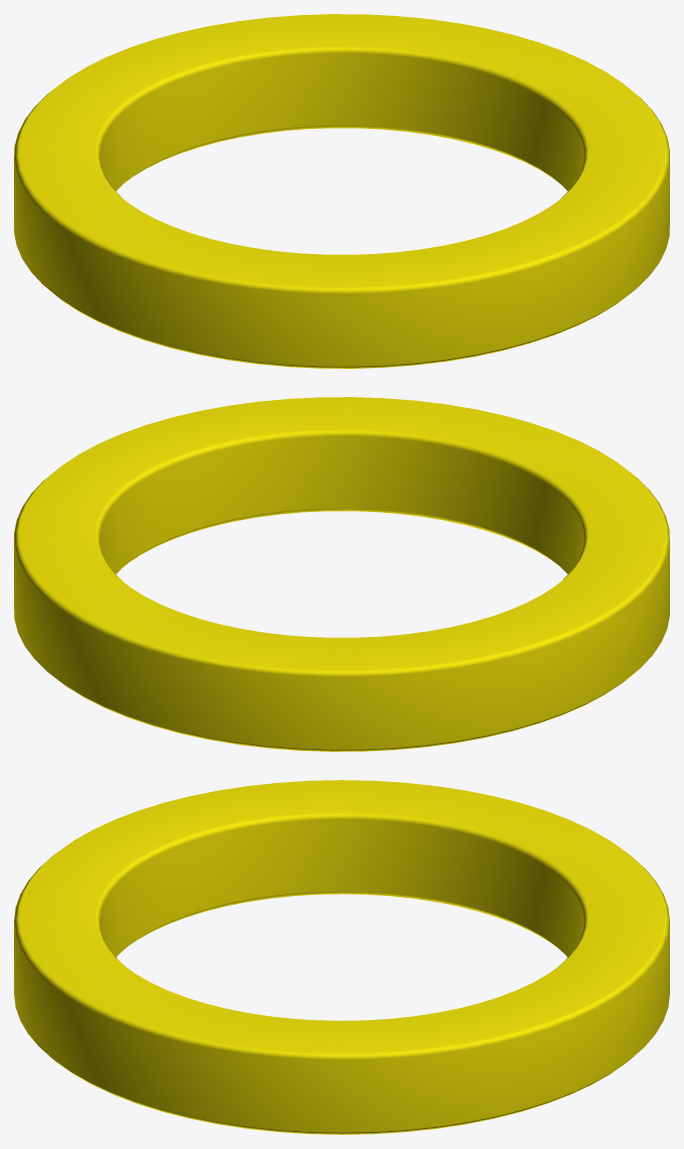
The picture shows the model from 3 angles, top to bottom: view 1: azimuth 30°, elevation 25°; view 2: azimuth 150°, elevation 25°; view 3: azimuth 270°, elevation 25°; orthographic projection.
Visible parts, largest first — view 1: seal_body; view 2: seal_body; view 3: seal_body.
Part boxes in pixels (x1=…): seal_body: x1=14, y1=14, x2=669, y2=368; seal_body: x1=14, y1=397, x2=669, y2=751; seal_body: x1=14, y1=780, x2=669, y2=1134.
Bounding box in the file's own units: 0.0271 × 0.00375 × 0.0271.
